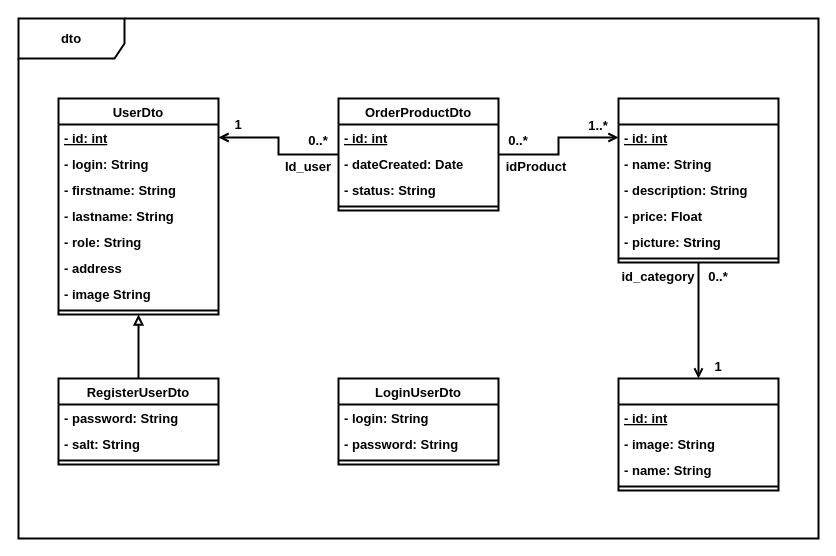
The diagram is 836 pixels wide and 556 high, and some of its shapes have lost their labels. Each missing label, with the box of its shape:
CategoryDto: (617, 377, 779, 491)
ProductDto: (617, 97, 779, 263)
